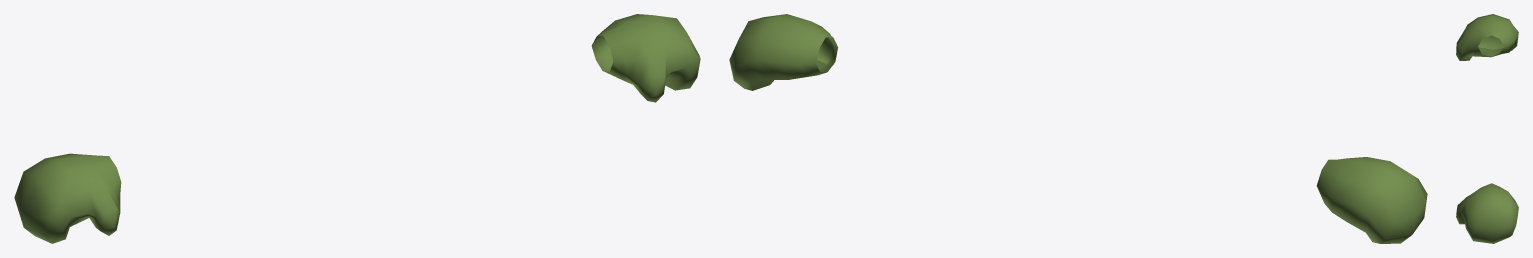
File: Body_Green_Hand.fbx
3 views of the same model, side by side, from view 1: azimuth 30°, elevation 25°; view 2: azimuth 150°, elevation 25°; view 3: azimuth 270°, elevation 25° (orthographic). The views are drawn at different scales.
Visible parts, largest first — view 1: Body_Green_Hand; view 2: Body_Green_Hand; view 3: Body_Green_Hand.
Part boxes in pixels (x1=…): Body_Green_Hand: x1=14, y1=14, x2=700, y2=243; Body_Green_Hand: x1=729, y1=14, x2=1427, y2=243; Body_Green_Hand: x1=1456, y1=14, x2=1518, y2=243.
Size of the model in its own units: 130 by 13.15 by 17.22.
